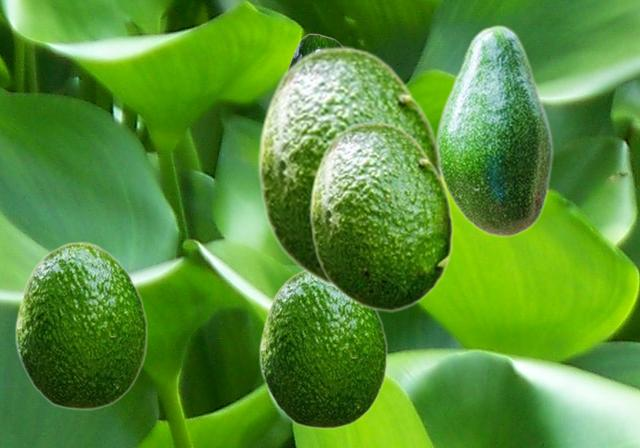avocado: (256, 46, 443, 289), (308, 121, 453, 311), (435, 24, 552, 237), (15, 241, 147, 409), (259, 269, 387, 428), (288, 33, 342, 66)
